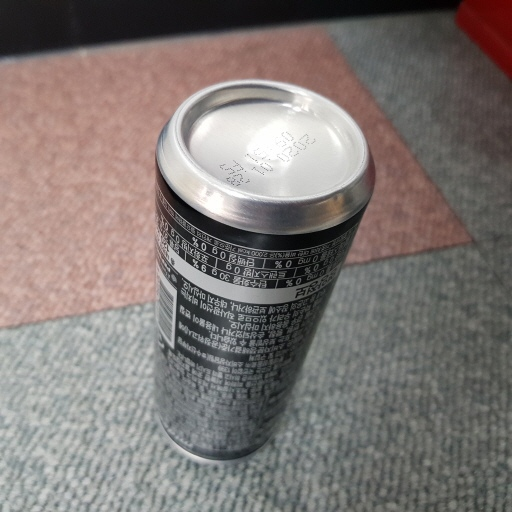Metal_0: (143, 77, 375, 467)
